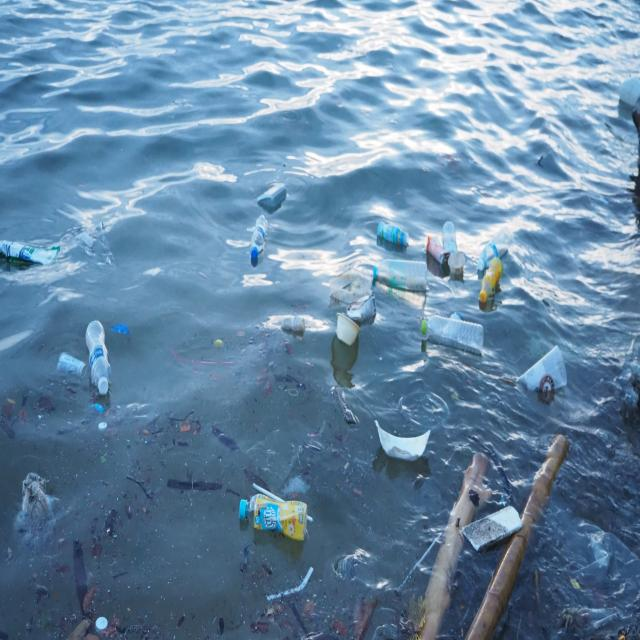foam: (461, 504, 524, 560), (375, 418, 433, 463)
plastic: (239, 493, 309, 546), (419, 311, 485, 357), (83, 320, 116, 398), (370, 258, 430, 296), (472, 223, 515, 274), (477, 257, 504, 301), (377, 217, 408, 251), (249, 214, 270, 260), (440, 218, 459, 254)
plastic bottle: (516, 342, 568, 398), (0, 232, 58, 271), (326, 270, 372, 302), (55, 348, 89, 384), (333, 312, 360, 353), (281, 316, 307, 332)
unknow: (14, 465, 59, 549), (346, 295, 378, 323)
